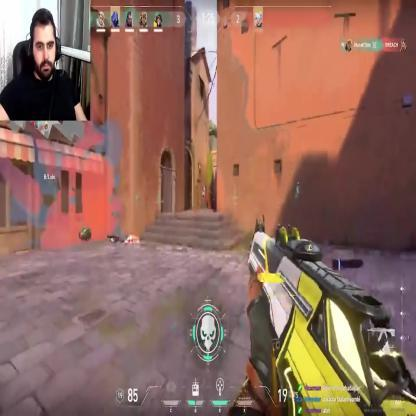enemy: (200, 184, 206, 209)
enemy_head: (202, 184, 205, 192)
